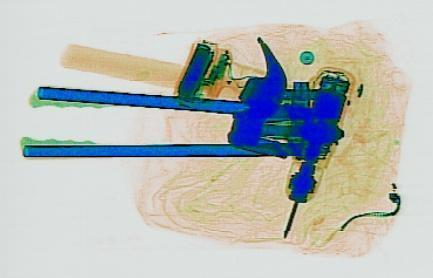plier: (18, 85, 346, 161)
